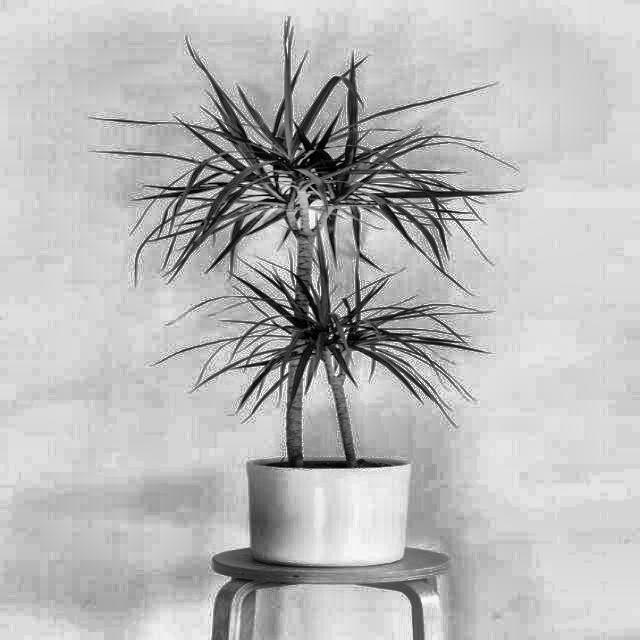plants: (86, 18, 534, 532)
